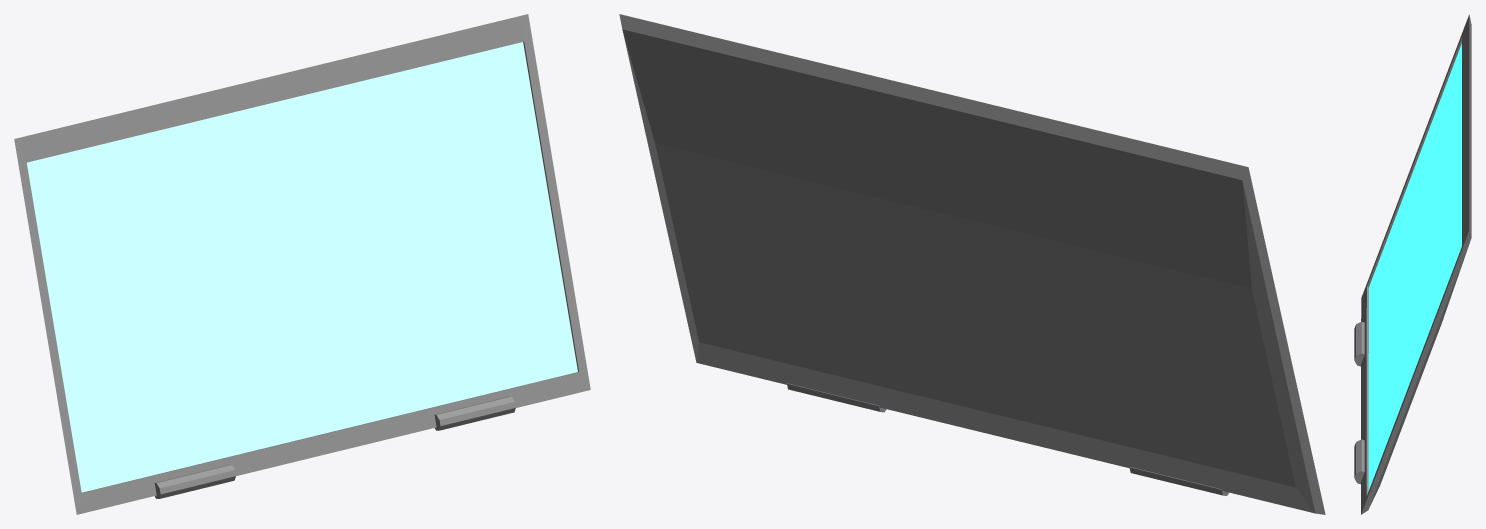
The model's file is LaptopLid.glb.
The picture shows the model from 3 angles, left to right: view 1: azimuth 30°, elevation 25°; view 2: azimuth 150°, elevation 25°; view 3: azimuth 270°, elevation 25°; orthographic projection. The views are drawn at different scales.
Visible parts, largest first — view 1: Plane.148; view 2: Plane.148; view 3: Plane.148.
Boxes of the visible parts, x1,y1,x2,y2 form: Plane.148: (14,14,590,514); Plane.148: (619,14,1325,514); Plane.148: (1354,14,1471,514).
Size of the model in its own units: 3.41 by 2.11 by 0.7809.
